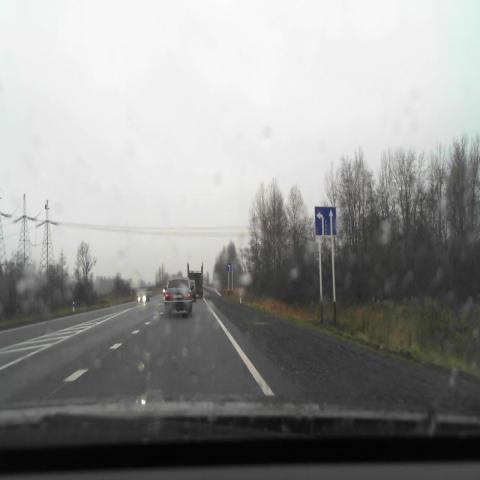5_15_2_2: (315, 207, 336, 236)
